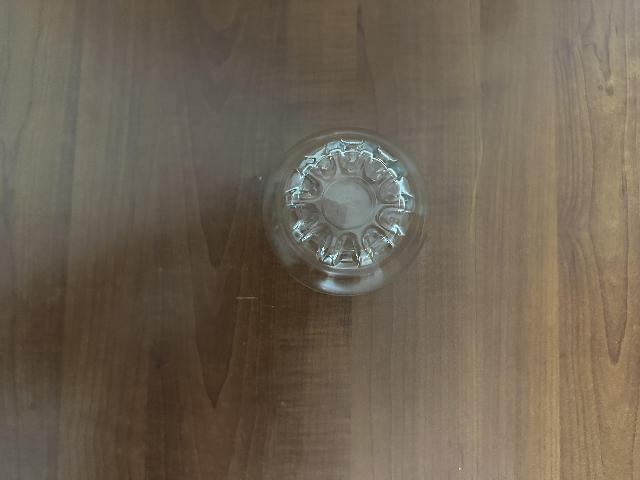Cam: (260, 132, 425, 294)
